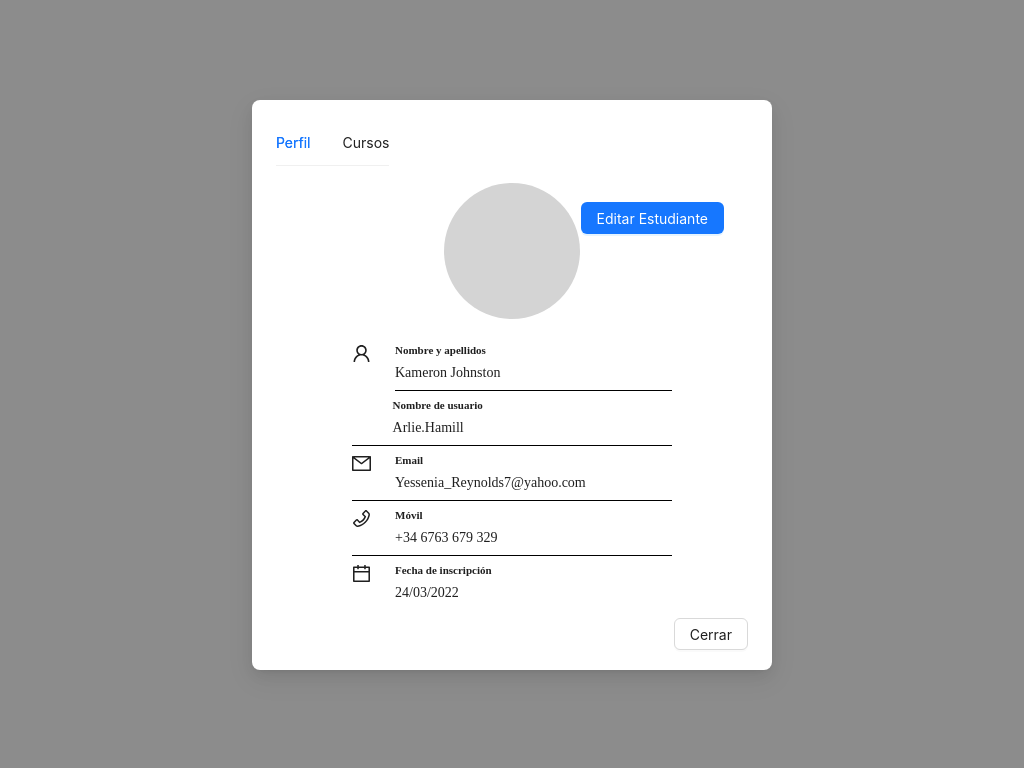
Test: should render the content of the courses view if the user clicks to the courses tab
Click the tab "Cursos" at (366, 143), box top-left (342, 132), bottom-right (390, 154)
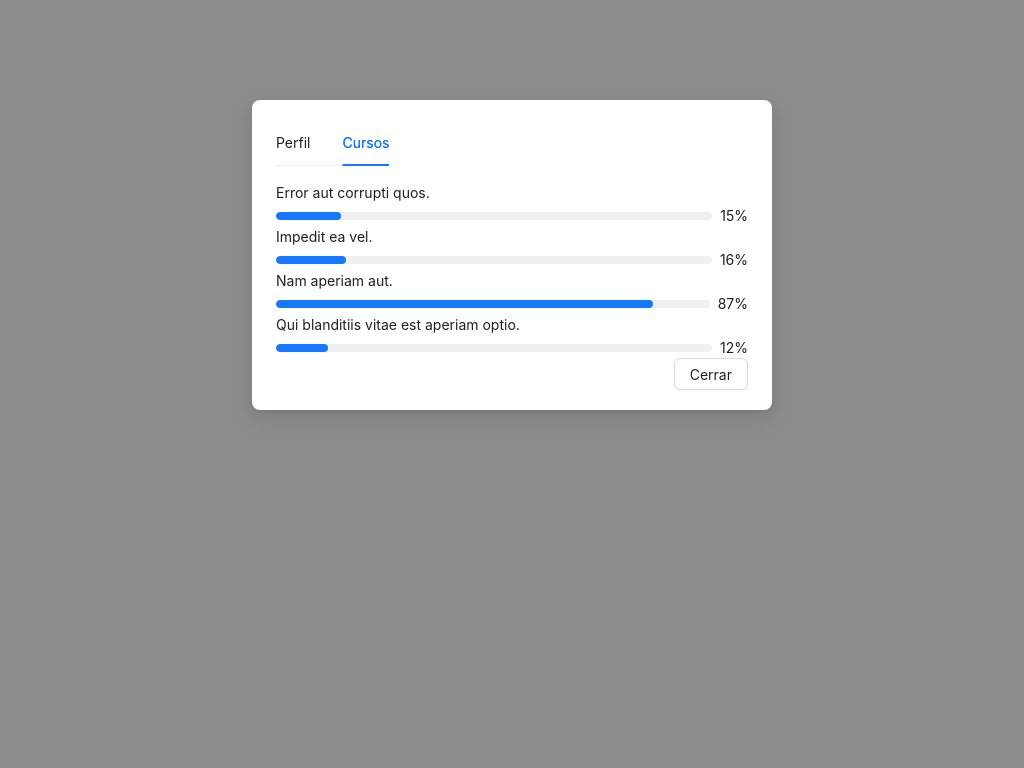
Expected: the text "Error aut corrupti quos." is shown, top-left (276, 184), bottom-right (430, 201)
